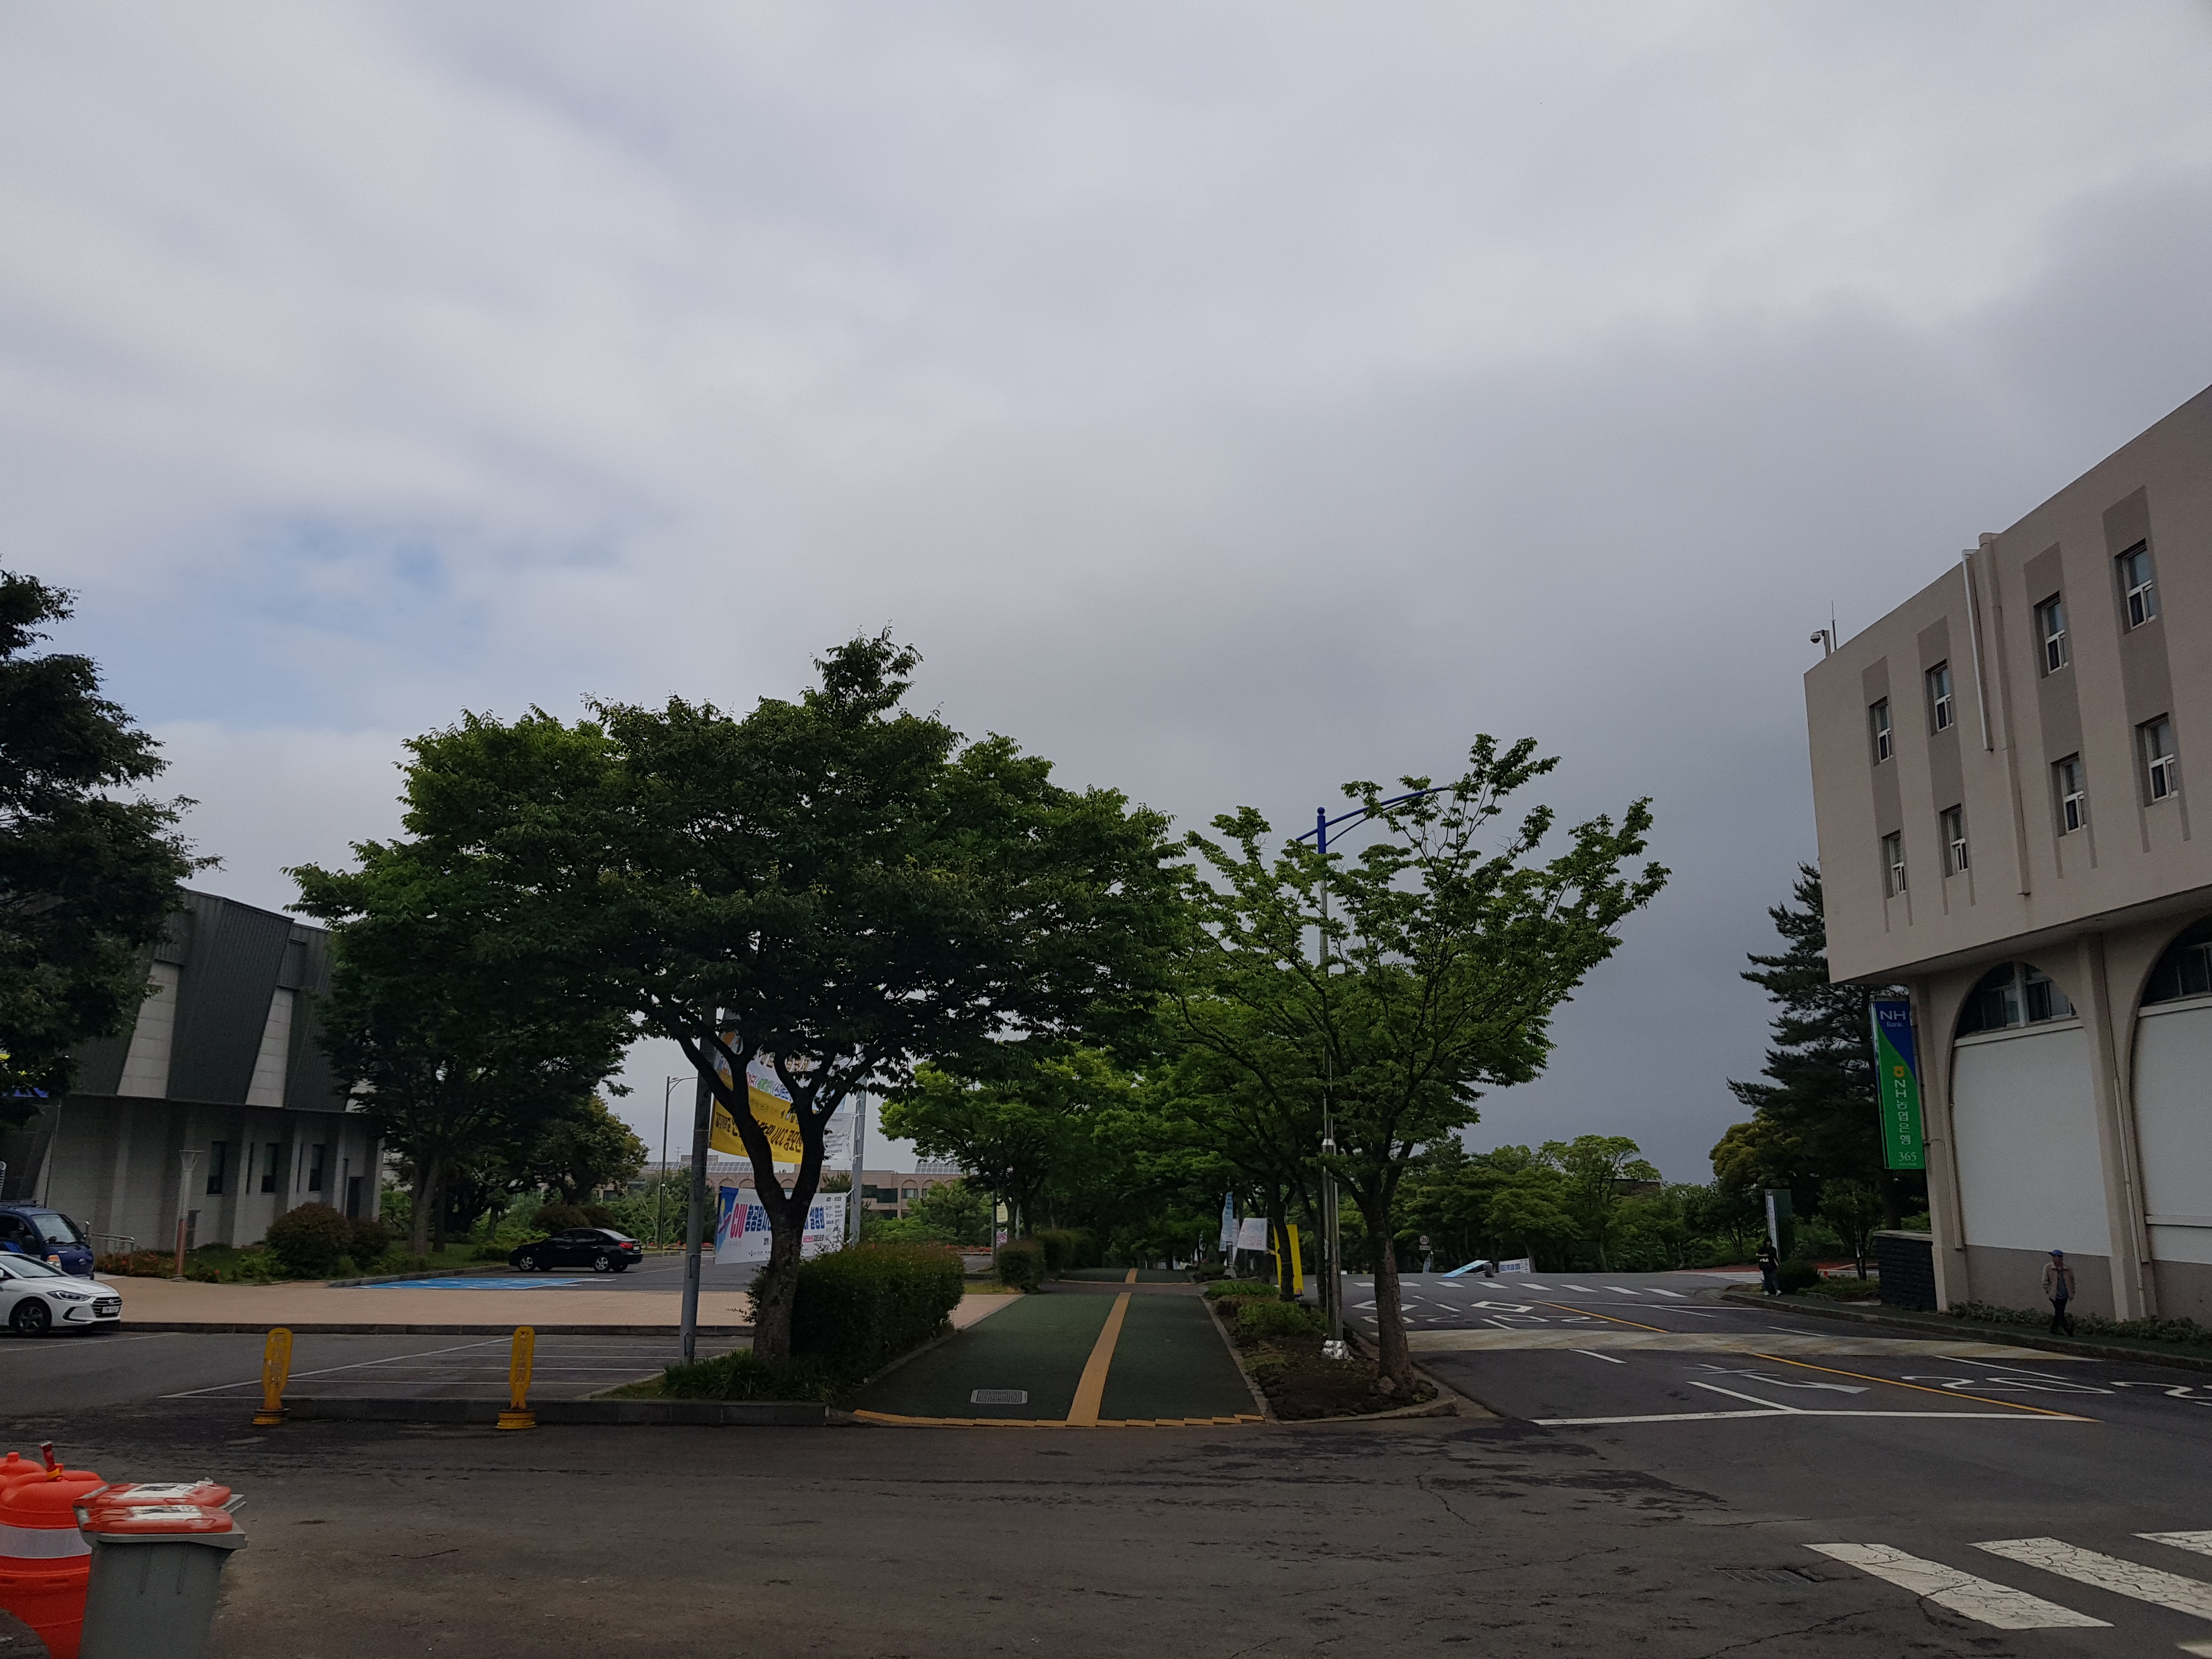Gym: (106, 859, 409, 1246)
Main Building of University: (1794, 387, 2209, 1352), (1867, 972, 1940, 1190)
